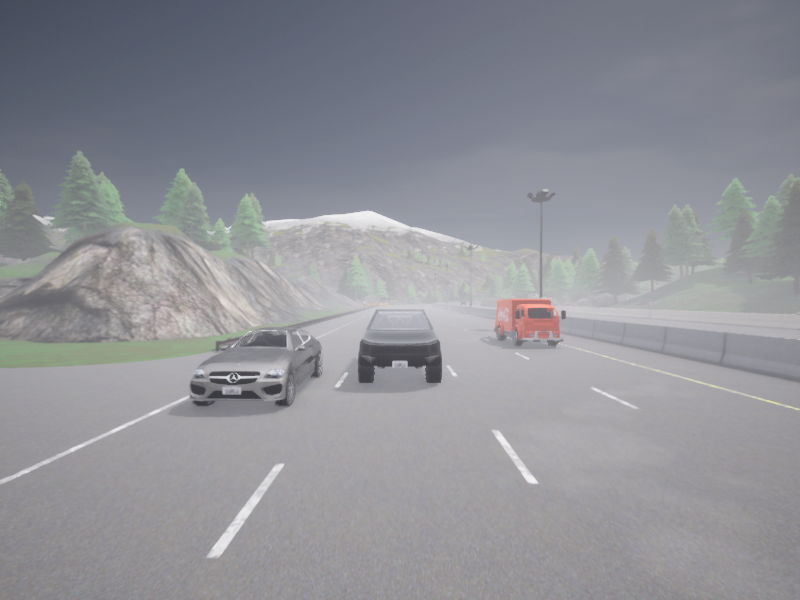vehicle: (189, 327, 322, 406), (358, 309, 441, 382), (494, 299, 565, 346), (471, 300, 477, 304), (461, 301, 466, 304), (482, 300, 483, 302)
